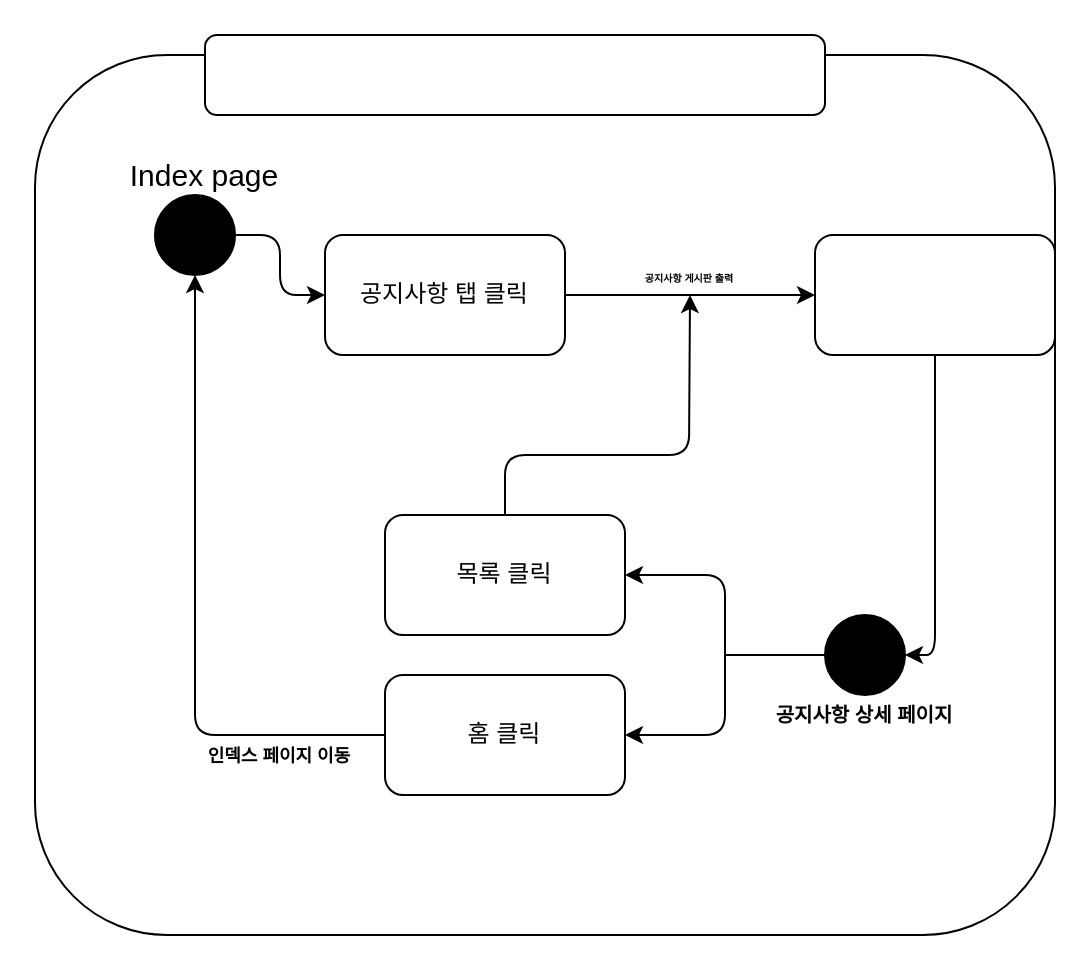
Image size: 1090x970. Some labels were removed from this diagram. Here are the shapes that lost their labels. From the top down, the box of each, then its label:
(203, 33, 825, 115): 공지사항 페이지
(813, 233, 1055, 355): 게시글 클릭
